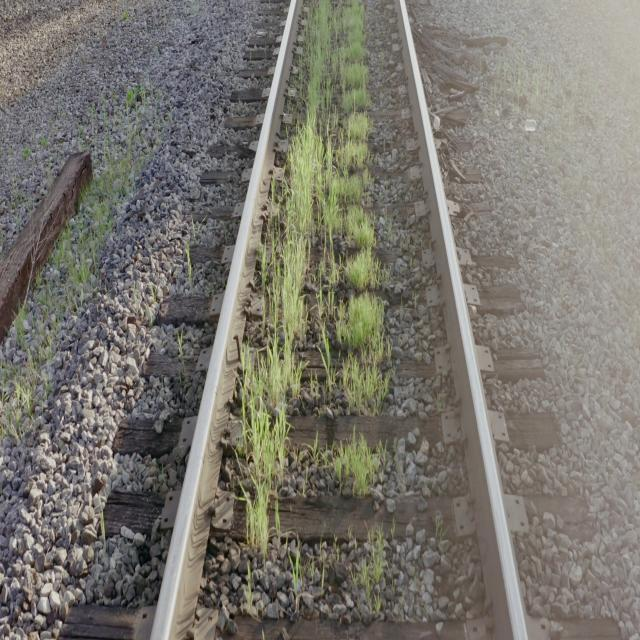Plant: (238, 0, 390, 553), (334, 427, 380, 498), (354, 529, 384, 602), (266, 516, 268, 518)
